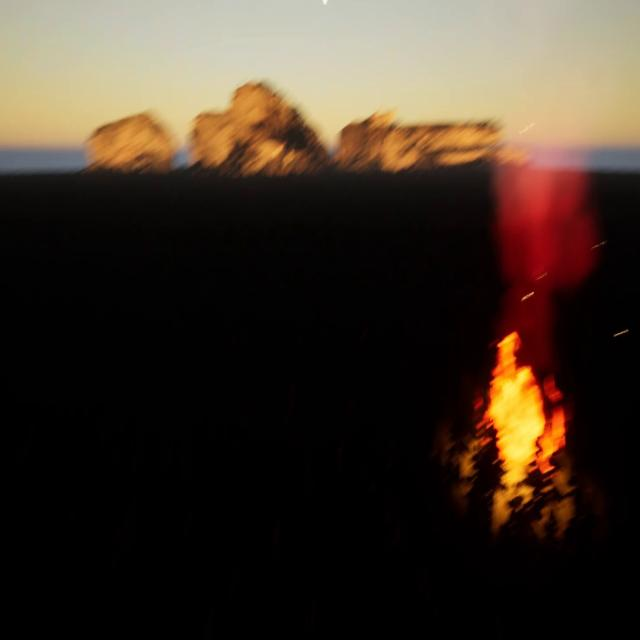fire: (477, 330, 566, 479)
smoke: (494, 107, 597, 330)
